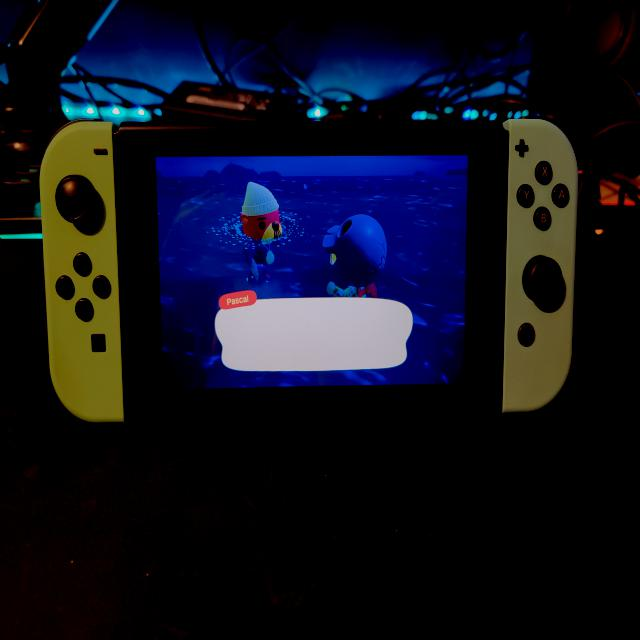text_bubble: (216, 287, 417, 373)
